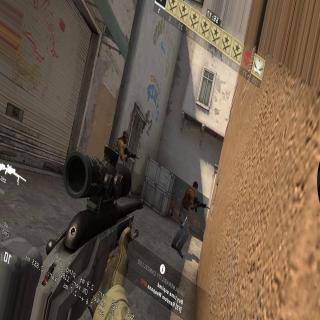T-Body: (172, 180, 202, 259), (113, 128, 128, 163)
T-Head: (123, 130, 129, 142), (193, 181, 198, 192)
